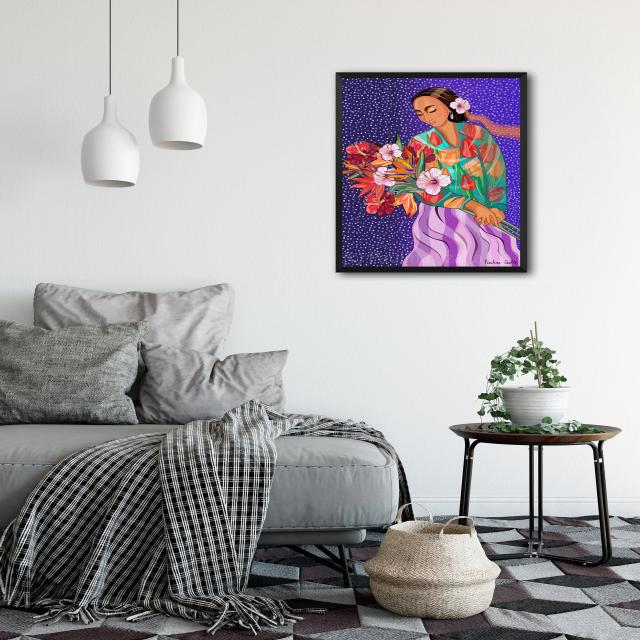painting: (334, 69, 528, 271)
